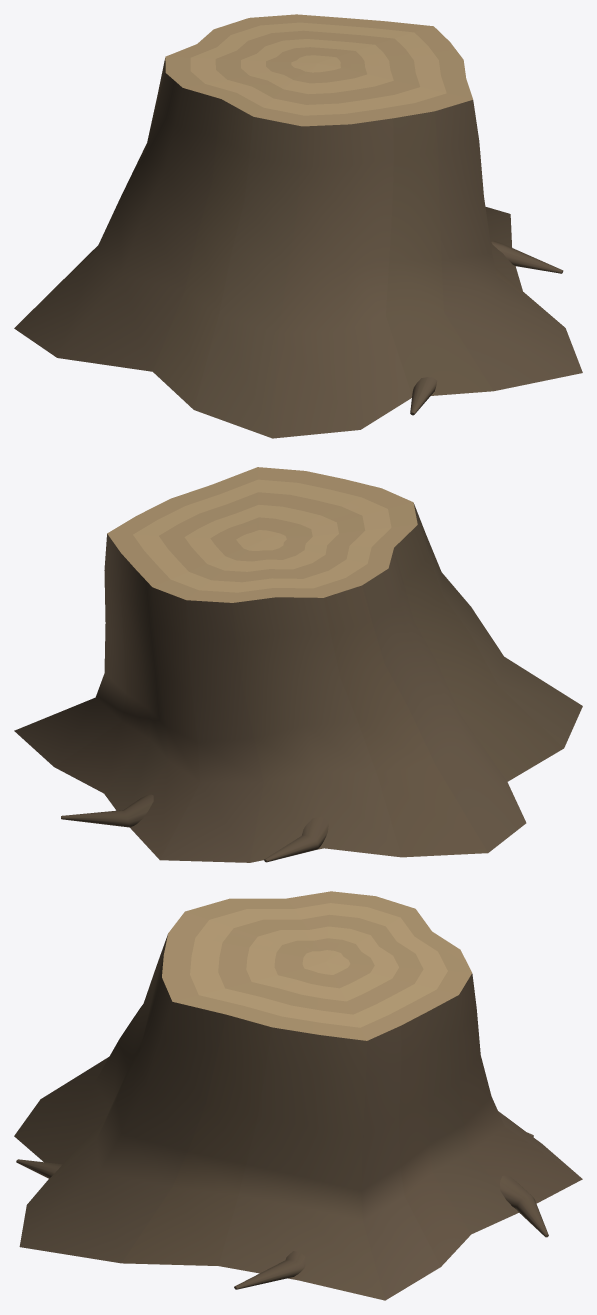
The model's file is corealm_stump_pine.glb.
3 renders of one model, top to bottom at view 1: azimuth 30°, elevation 25°; view 2: azimuth 150°, elevation 25°; view 3: azimuth 270°, elevation 25°, orthographic. The views are drawn at different scales.
Parts seen in each view (by area): view 1: corealm_stump_pine; view 2: corealm_stump_pine; view 3: corealm_stump_pine.
Part boxes in pixels (x1,y1,x2,y2): corealm_stump_pine: (14,14,582,438); corealm_stump_pine: (14,467,582,862); corealm_stump_pine: (14,891,582,1300).
Size of the model in its own units: 1.38 by 0.6318 by 1.37.
